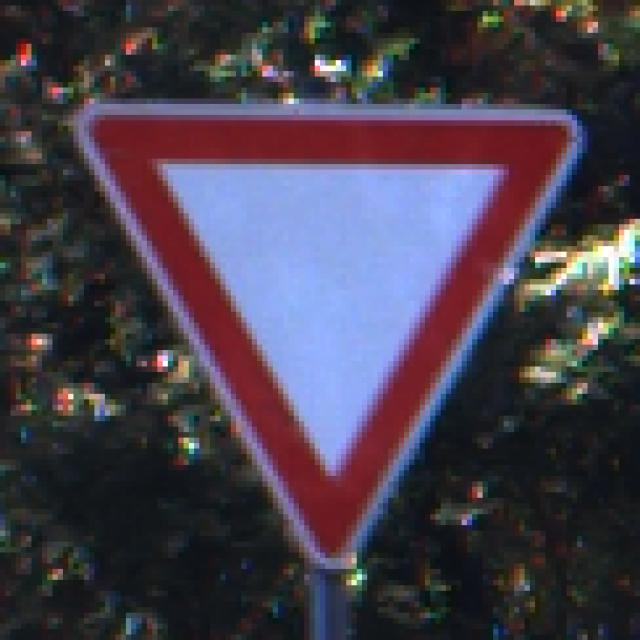Give Way: (54, 61, 584, 586)
